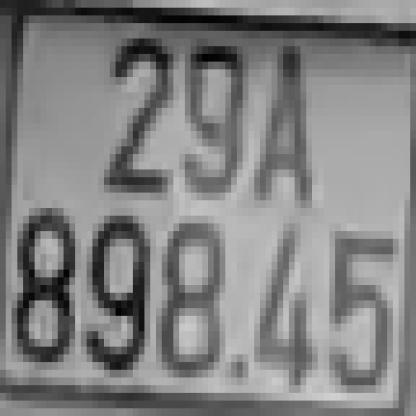2: (98, 38, 174, 192)
4: (248, 224, 312, 386)
5: (324, 231, 387, 385)
8: (11, 208, 81, 354), (162, 208, 219, 370)
9: (87, 208, 150, 362), (179, 46, 237, 193)
A: (248, 46, 312, 208)
